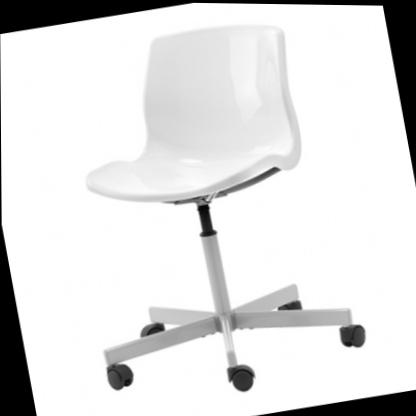Chair: (40, 1, 375, 416)
